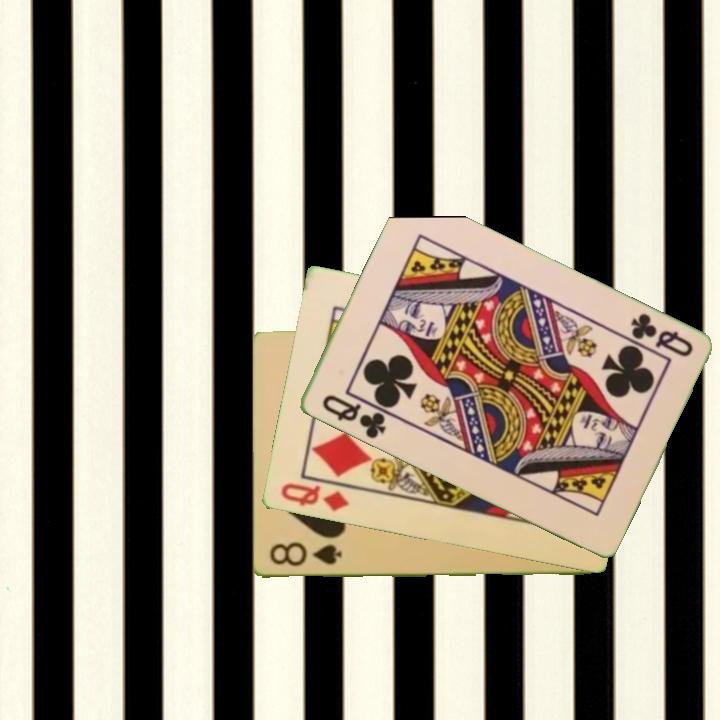8s: (266, 540, 345, 569)
Qc: (318, 391, 389, 442), (626, 310, 697, 360)
Qd: (276, 480, 351, 515)
